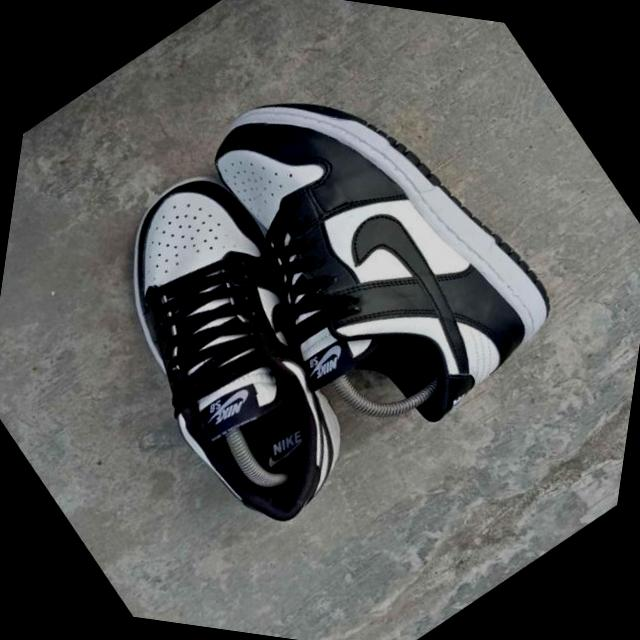nike_fake_jordan: (121, 0, 621, 500), (21, 138, 446, 572)
